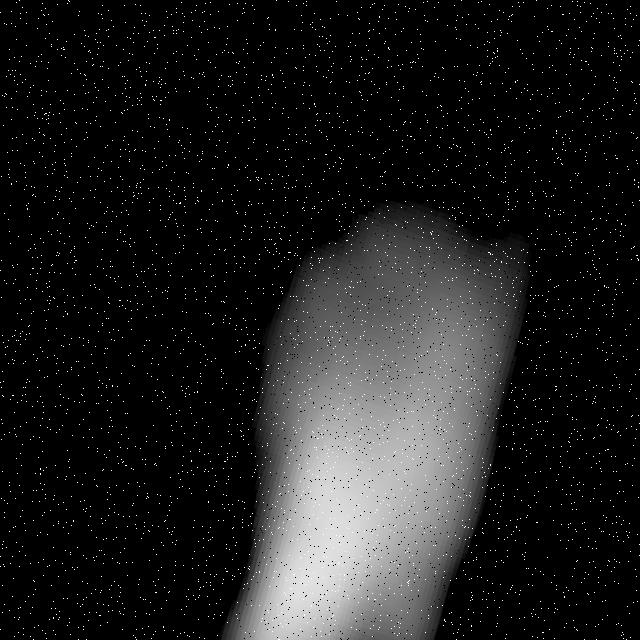person: (155, 149, 559, 640)
